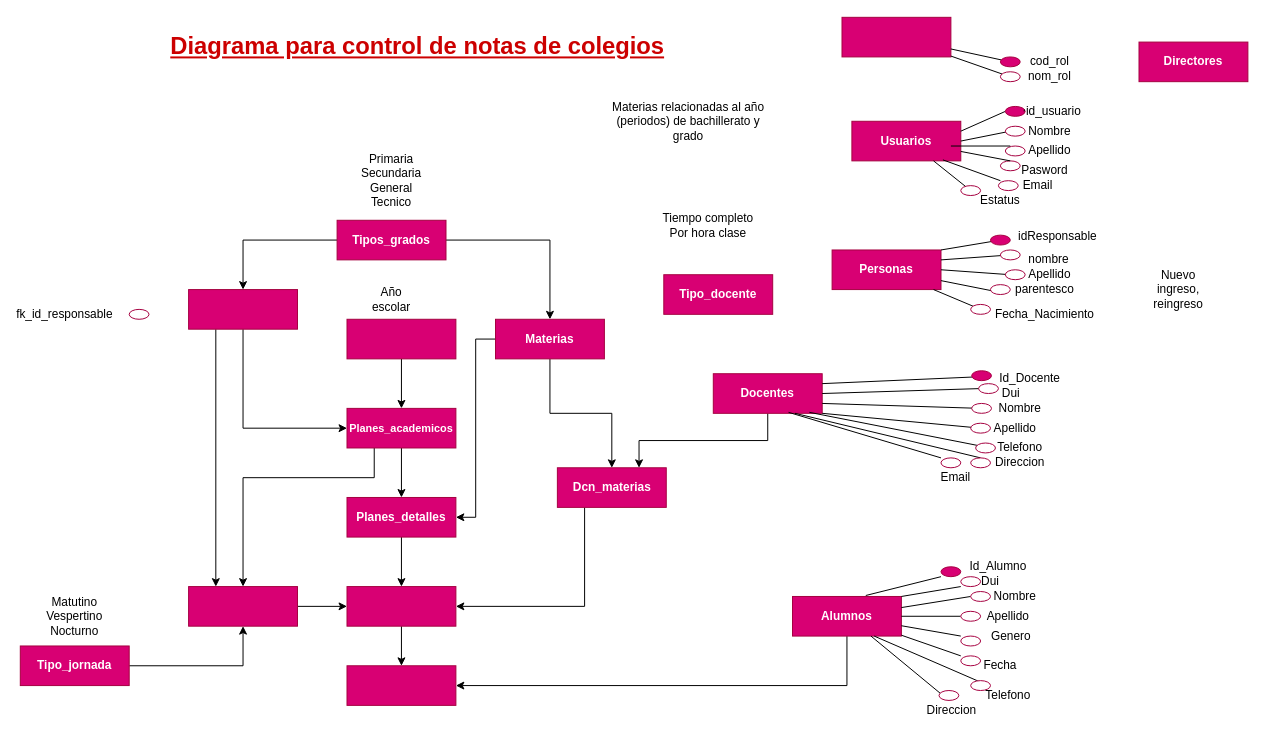
The diagram is 1265 pixels wide and 738 high, and some of its shapes have lost their labels. Each missing label, with the centre of its shape:
Alums_detalles_notas: the point at 401,685
Grados: the point at 242,309
Horarios_materias: the point at 401,606
Periodos: the point at 401,338
Roles: the point at 896,36
Secciones: the point at 242,606
